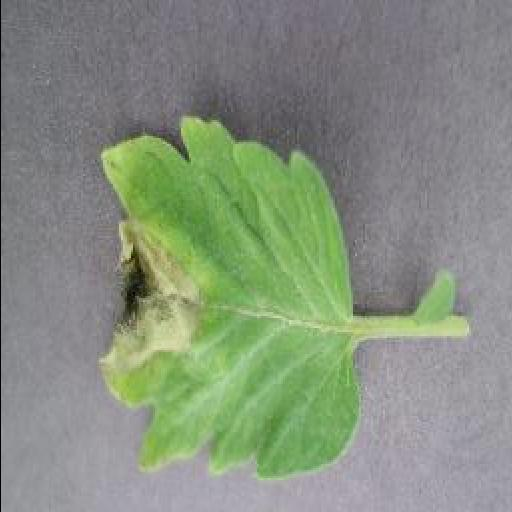disease_tomato: (92, 108, 362, 482)
